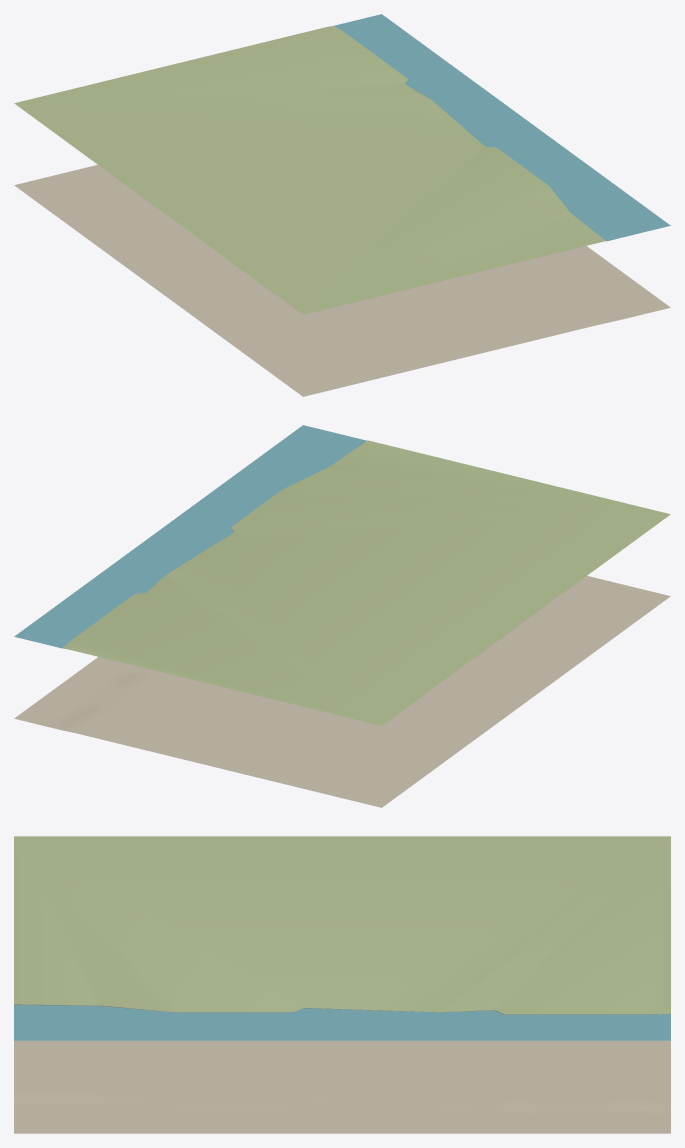
3 views of the same model, one above another, from view 1: azimuth 30°, elevation 25°; view 2: azimuth 150°, elevation 25°; view 3: azimuth 270°, elevation 25° (orthographic). The views are drawn at different scales.
Parts seen in each view (by area): view 1: s_-13_-1__grass, s_-13_-1__soil, s_-13_-1__water; view 2: s_-13_-1__grass, s_-13_-1__soil, s_-13_-1__water; view 3: s_-13_-1__grass, s_-13_-1__soil, s_-13_-1__water.
Boxes of the visible parts, x1,y1,x2,y2 form: s_-13_-1__grass: (14,26,605,314); s_-13_-1__soil: (14,165,670,396); s_-13_-1__water: (334,14,670,241); s_-13_-1__grass: (62,440,670,725); s_-13_-1__soil: (14,576,670,807); s_-13_-1__water: (14,425,366,648); s_-13_-1__grass: (14,836,670,1014); s_-13_-1__soil: (14,1040,670,1133); s_-13_-1__water: (14,1005,670,1040).
Size of the model in its own units: 94 by 20.14 by 128.
